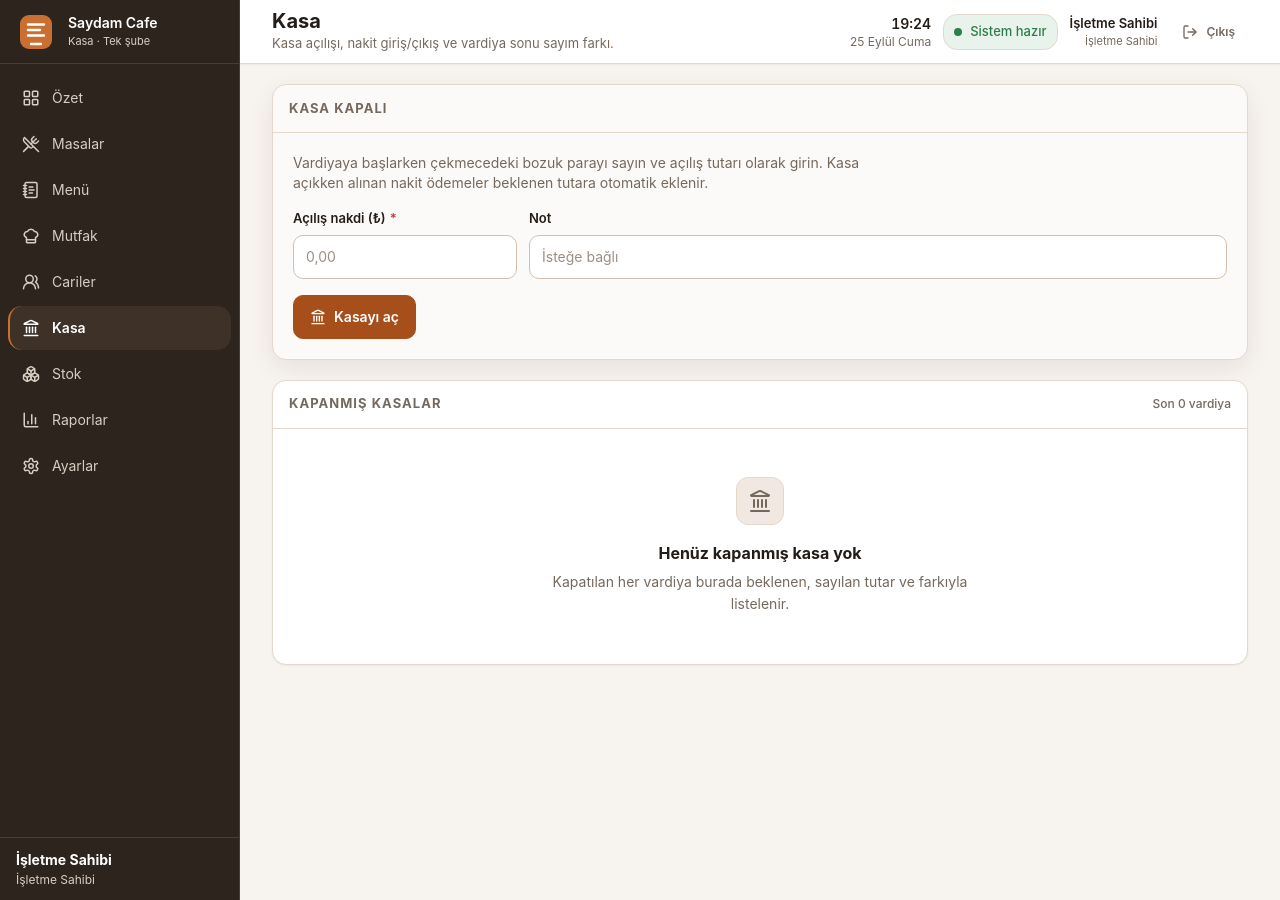
Kasa ekranı › geçersiz tutarı göndermeden hata gösterir
The width and height of the screenshot is (1280, 900).
Type "beş yüz" into the field labelled "Açılış nakdi (₺)".
click(405, 256); type("beş yüz")  # box [293,234,517,278]
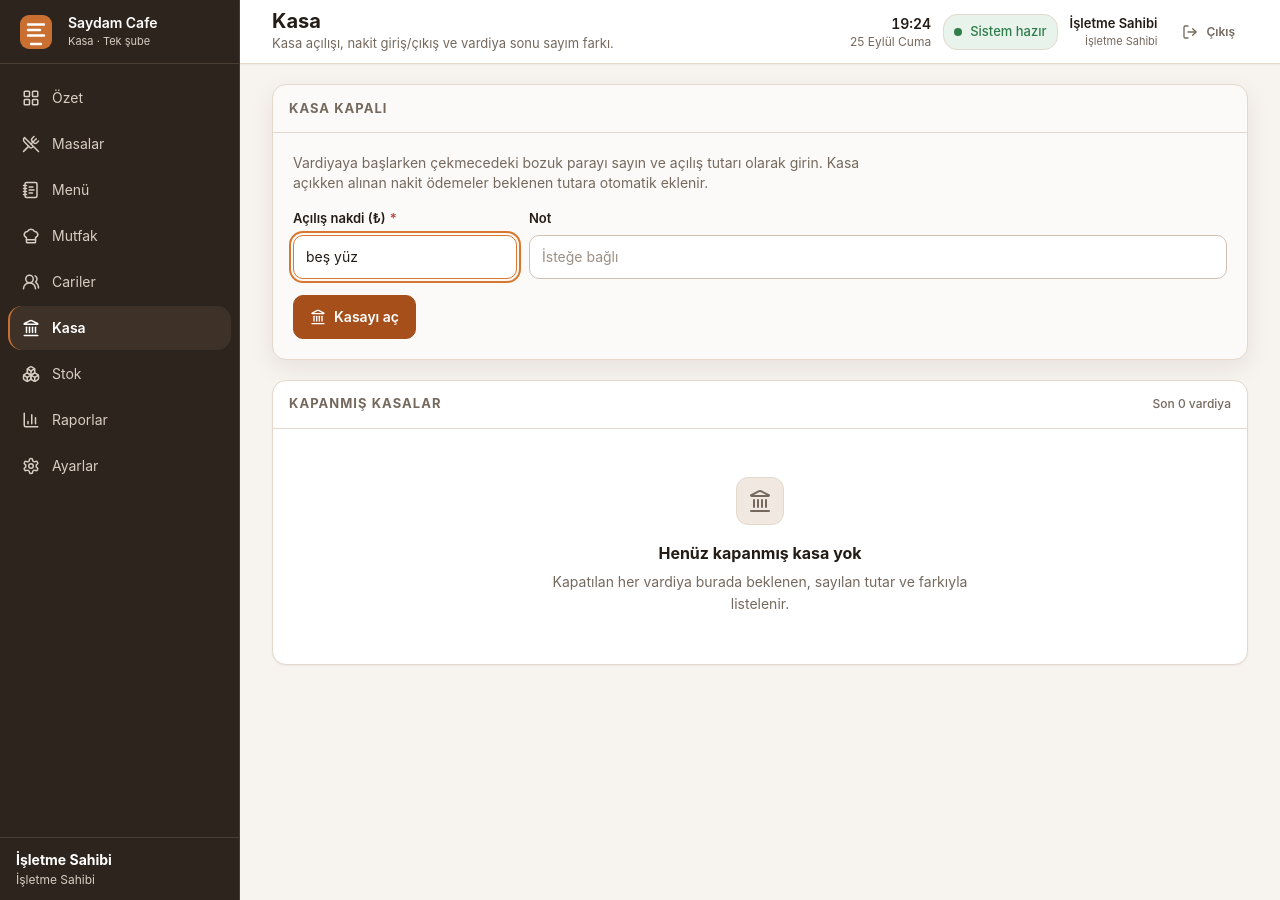
Click the button "Kasayı aç".
click(354, 316)  # box [293,294,416,338]
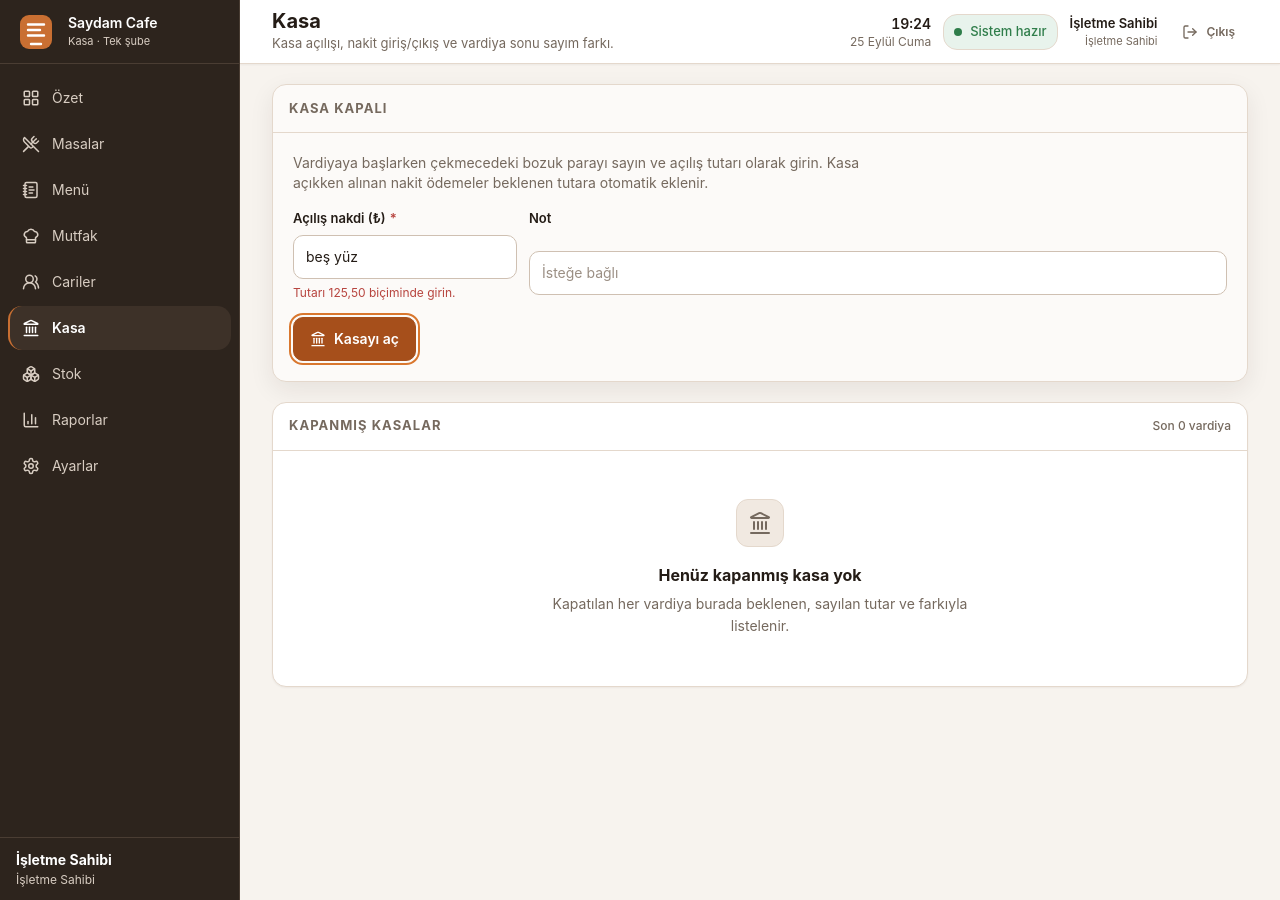
Expected: the message shows "125,50", [293,284,456,300]
